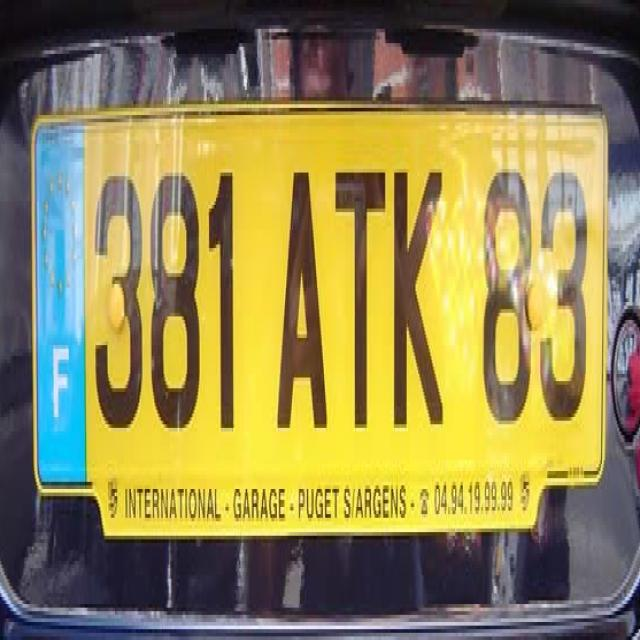EU: (34, 106, 606, 483)
France: (32, 108, 87, 486)
